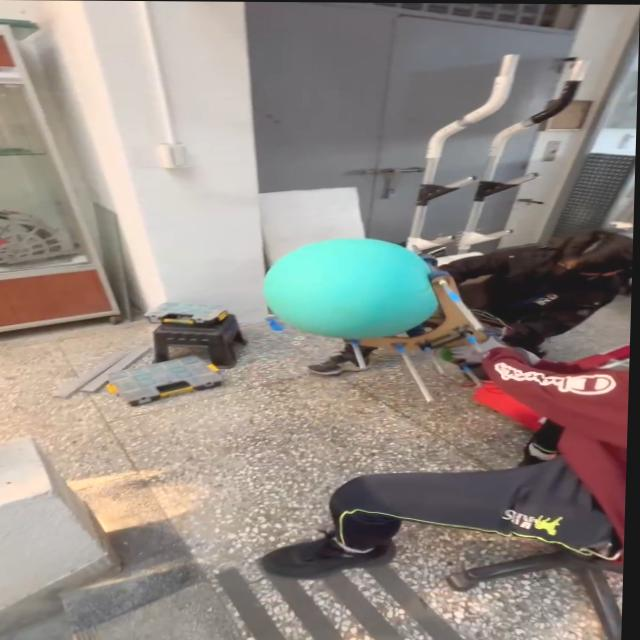ALGAE: (258, 236, 442, 341)
